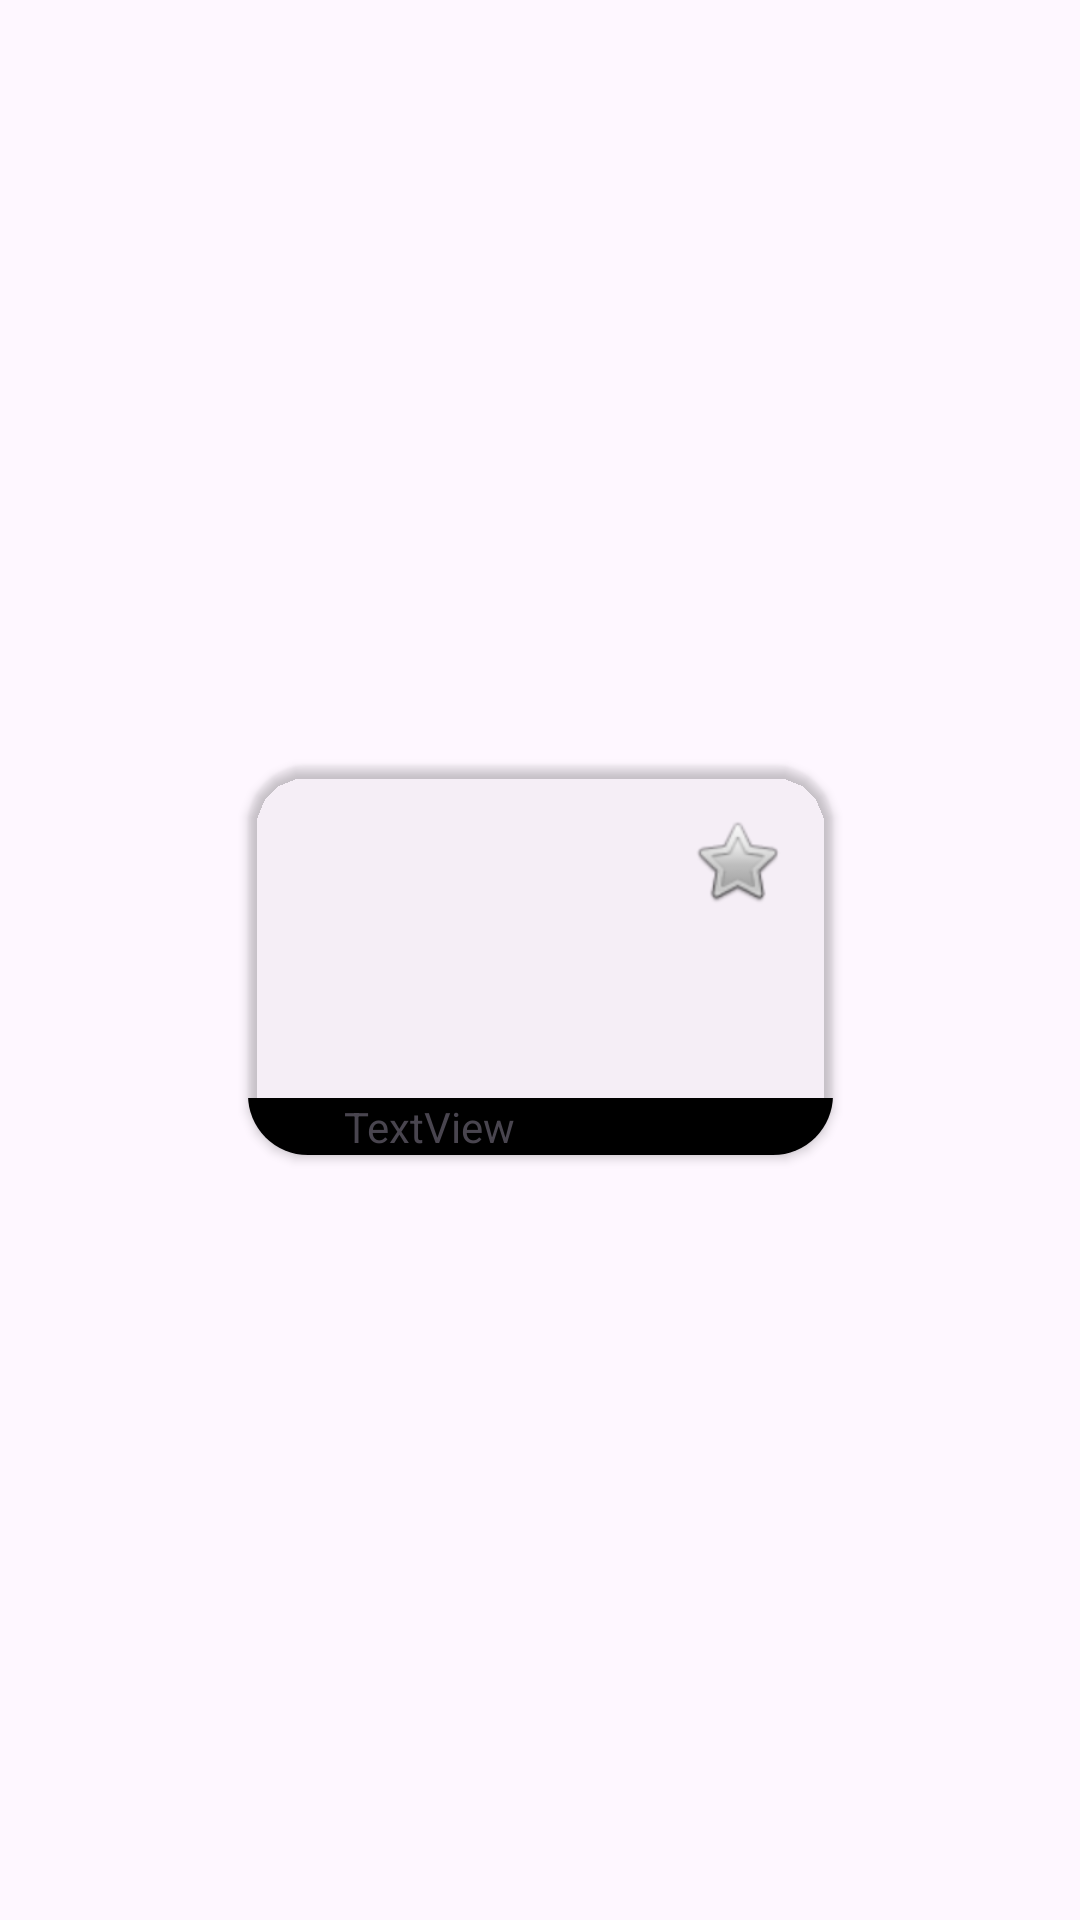

Screen size 1080w x 1920h. Icon name, then its box in pixels as (x1, y1, x2, y2):
star off: (698, 823, 778, 901)
